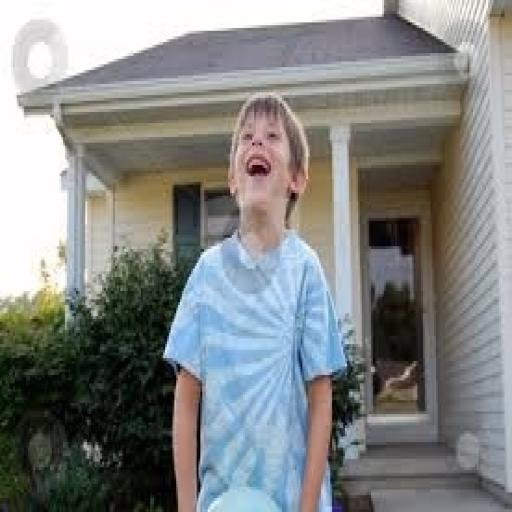laughing: (156, 81, 352, 507)
